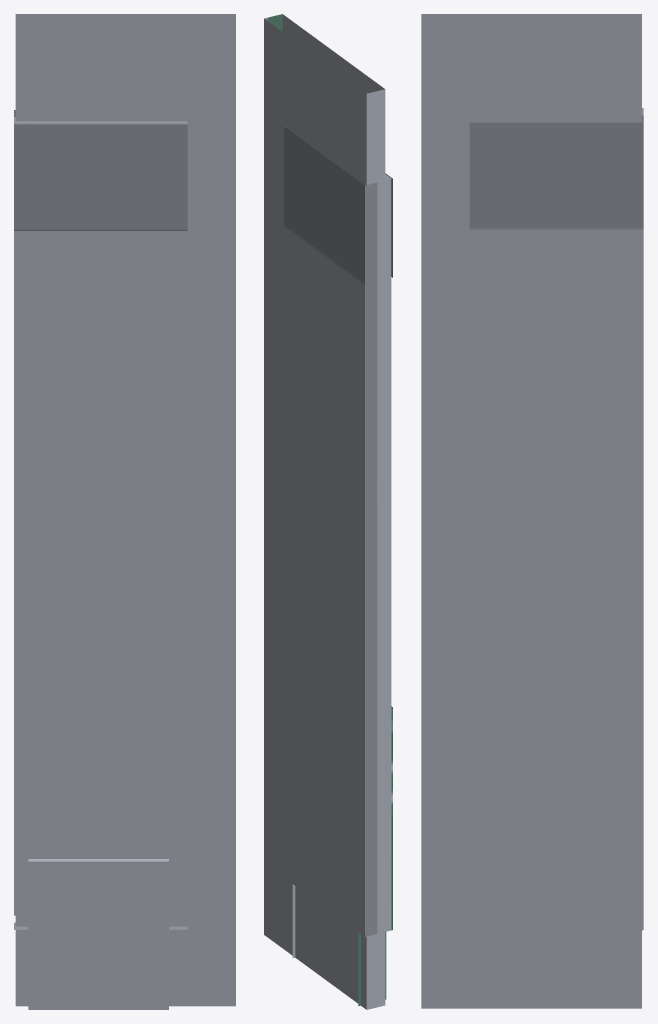
The model's file is section-1.obj.
The picture shows the model from 3 angles, left to right: view 1: azimuth 90°, elevation 25°; view 2: azimuth 210°, elevation 25°; view 3: azimuth 270°, elevation 25°; orthographic projection. The views are drawn at different scales.
Size of the model in its own units: 0.032 by 1 by 0.2045.
